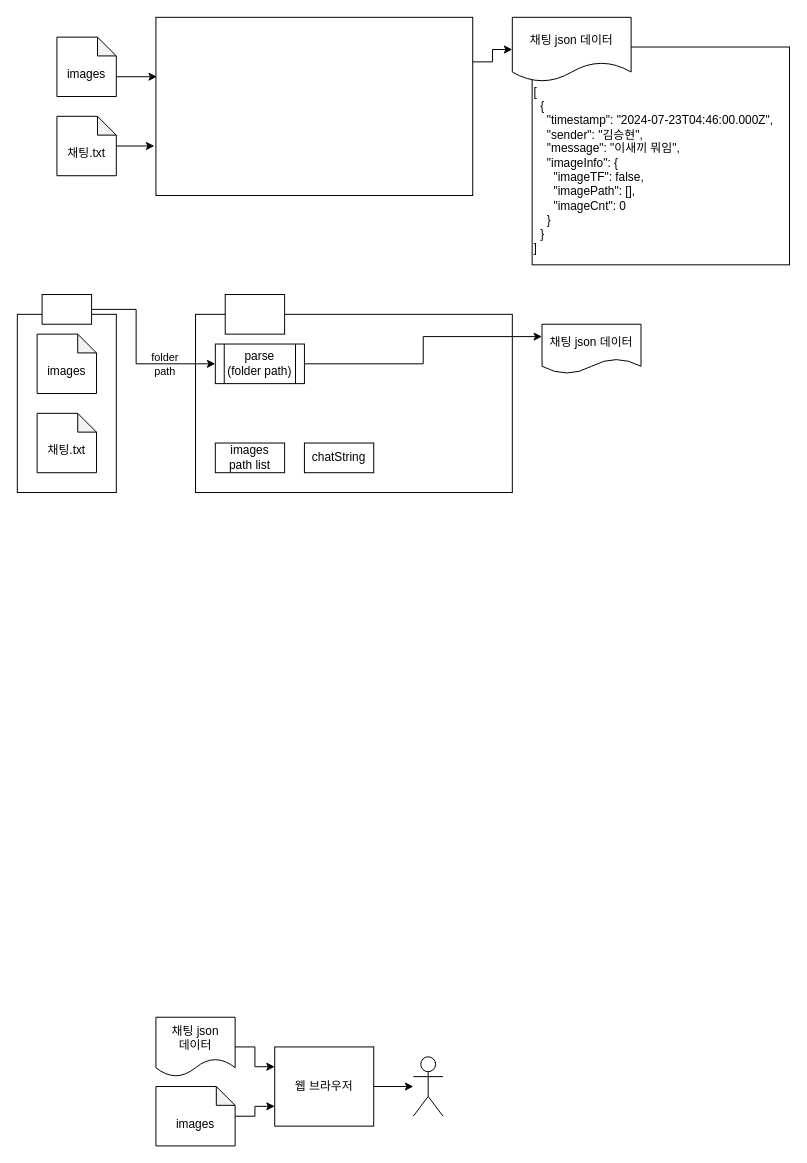
Some shapes in this 807 by 1163 pixel diagram are drawn without their labels. The box of each missing label's shape, as (x1, y1, x2, y2) in pixels:
client: (412, 1056, 443, 1116)
folder: (41, 294, 92, 324)
parser class: (224, 294, 285, 334)
채팅 데이터 parser: (155, 16, 473, 196)
